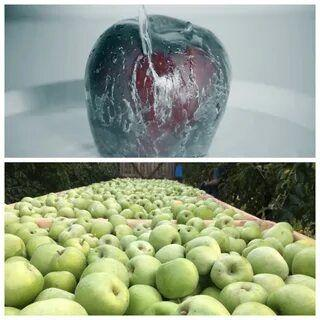Apple: (74, 277, 130, 316), (7, 260, 44, 302), (156, 262, 200, 296), (250, 248, 290, 278), (212, 254, 251, 284), (147, 225, 180, 249), (88, 244, 125, 265), (128, 257, 156, 282), (54, 250, 88, 270), (180, 210, 193, 222)
